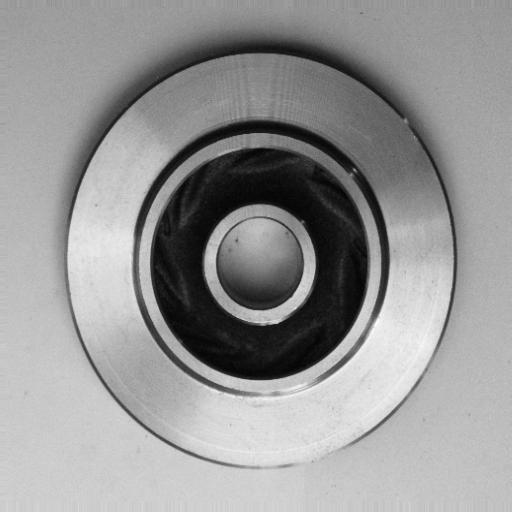scratch: (238, 430, 366, 484)
unpolished_casting: (64, 44, 461, 471)
